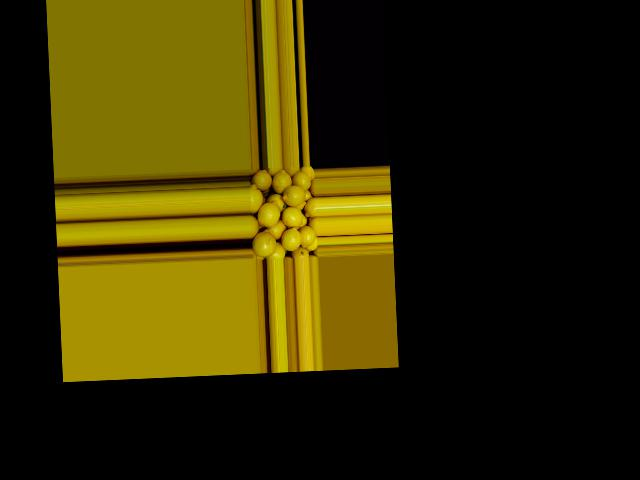lemon: (248, 181, 263, 213)
